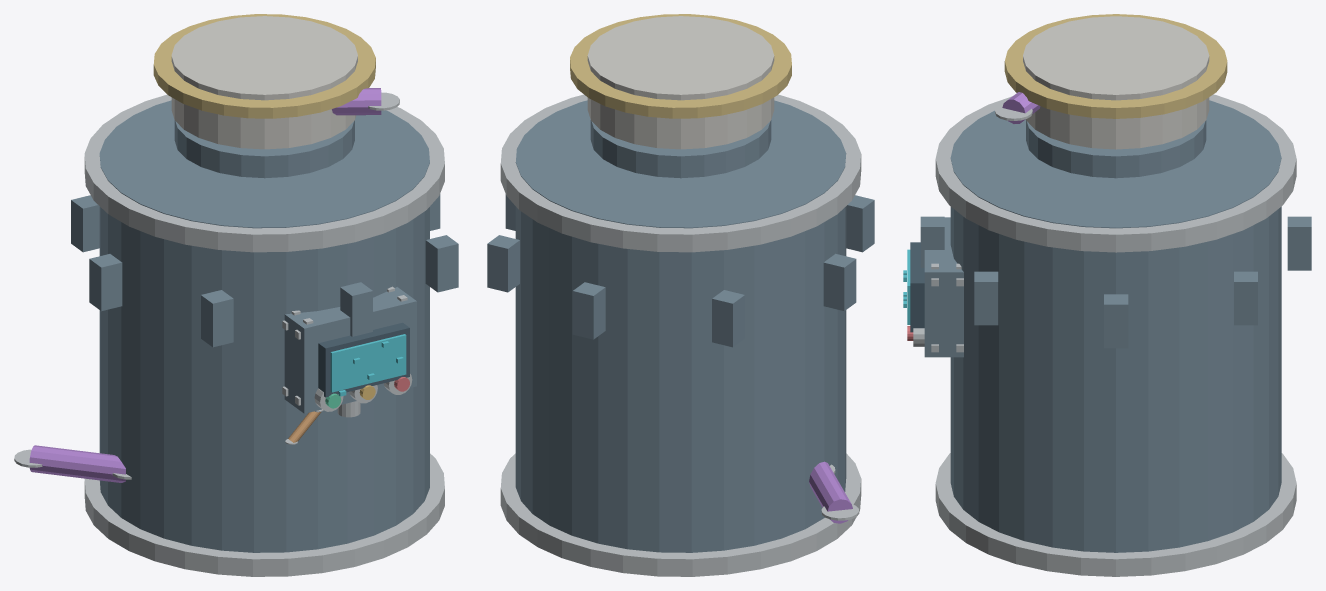
File: 21_L78_VirtualCapPrecursorCartridge.glb
3 renders of one model, left to right at view 1: azimuth 30°, elevation 25°; view 2: azimuth 150°, elevation 25°; view 3: azimuth 270°, elevation 25°, orthographic.
Parts seen in each view (by area): view 1: VirtualCapPrecursorCartridge_Node_0000, VirtualCapPrecursorCartridge_Node_0047, VirtualCapPrecursorCartridge_Node_0004, VirtualCapPrecursorCartridge_Node_0003, VirtualCapPrecursorCartridge_Node_0048, VirtualCapPrecursorCartridge_Node_0021, VirtualCapPrecursorCartridge_Node_0049, VirtualCapPrecursorCartridge_Node_0031, VirtualCapPrecursorCartridge_Node_0018, VirtualCapPrecursorCartridge_Node_0030, VirtualCapPrecursorCartridge_Node_0006, VirtualCapPrecursorCartridge_Node_0009 (+4 smaller); view 2: VirtualCapPrecursorCartridge_Node_0000, VirtualCapPrecursorCartridge_Node_0047, VirtualCapPrecursorCartridge_Node_0004, VirtualCapPrecursorCartridge_Node_0003, VirtualCapPrecursorCartridge_Node_0048, VirtualCapPrecursorCartridge_Node_0049, VirtualCapPrecursorCartridge_Node_0011, VirtualCapPrecursorCartridge_Node_0009, VirtualCapPrecursorCartridge_Node_0012, VirtualCapPrecursorCartridge_Node_0010, VirtualCapPrecursorCartridge_Node_0008, VirtualCapPrecursorCartridge_Node_0018; view 3: VirtualCapPrecursorCartridge_Node_0000, VirtualCapPrecursorCartridge_Node_0047, VirtualCapPrecursorCartridge_Node_0004, VirtualCapPrecursorCartridge_Node_0003, VirtualCapPrecursorCartridge_Node_0048, VirtualCapPrecursorCartridge_Node_0049, VirtualCapPrecursorCartridge_Node_0021, VirtualCapPrecursorCartridge_Node_0005, VirtualCapPrecursorCartridge_Node_0011, VirtualCapPrecursorCartridge_Node_0006, VirtualCapPrecursorCartridge_Node_0012, VirtualCapPrecursorCartridge_Node_0030 (+2 smaller).
Boxes of the visible parts, box(x1,y1,x2,y2) form: VirtualCapPrecursorCartridge_Node_0000: box(99, 100, 429, 552); VirtualCapPrecursorCartridge_Node_0047: box(171, 16, 357, 149); VirtualCapPrecursorCartridge_Node_0004: box(84, 94, 444, 252); VirtualCapPrecursorCartridge_Node_0003: box(84, 453, 444, 576); VirtualCapPrecursorCartridge_Node_0048: box(153, 14, 375, 118); VirtualCapPrecursorCartridge_Node_0021: box(284, 287, 416, 413); VirtualCapPrecursorCartridge_Node_0049: box(174, 120, 354, 178); VirtualCapPrecursorCartridge_Node_0031: box(330, 334, 406, 392); VirtualCapPrecursorCartridge_Node_0018: box(29, 445, 125, 482); VirtualCapPrecursorCartridge_Node_0030: box(318, 322, 409, 397); VirtualCapPrecursorCartridge_Node_0006: box(425, 235, 458, 292); VirtualCapPrecursorCartridge_Node_0009: box(89, 254, 122, 311); VirtualCapPrecursorCartridge_Node_0000: box(515, 100, 846, 552); VirtualCapPrecursorCartridge_Node_0047: box(587, 16, 774, 149); VirtualCapPrecursorCartridge_Node_0004: box(500, 94, 861, 252); VirtualCapPrecursorCartridge_Node_0003: box(500, 453, 861, 576); VirtualCapPrecursorCartridge_Node_0048: box(570, 14, 791, 118); VirtualCapPrecursorCartridge_Node_0049: box(590, 120, 771, 178); VirtualCapPrecursorCartridge_Node_0011: box(572, 282, 605, 339); VirtualCapPrecursorCartridge_Node_0009: box(823, 253, 856, 311); VirtualCapPrecursorCartridge_Node_0012: box(487, 235, 519, 292); VirtualCapPrecursorCartridge_Node_0010: box(712, 290, 744, 347); VirtualCapPrecursorCartridge_Node_0008: box(846, 195, 874, 252); VirtualCapPrecursorCartridge_Node_0018: box(809, 461, 852, 523); VirtualCapPrecursorCartridge_Node_0000: box(950, 100, 1281, 552); VirtualCapPrecursorCartridge_Node_0047: box(1023, 16, 1209, 149); VirtualCapPrecursorCartridge_Node_0004: box(935, 94, 1296, 252); VirtualCapPrecursorCartridge_Node_0003: box(935, 453, 1296, 576); VirtualCapPrecursorCartridge_Node_0048: box(1004, 14, 1227, 118); VirtualCapPrecursorCartridge_Node_0049: box(1026, 120, 1206, 178); VirtualCapPrecursorCartridge_Node_0021: box(924, 217, 963, 357); VirtualCapPrecursorCartridge_Node_0005: box(1104, 294, 1128, 348); VirtualCapPrecursorCartridge_Node_0011: box(1287, 216, 1311, 270); VirtualCapPrecursorCartridge_Node_0006: box(974, 271, 998, 325); VirtualCapPrecursorCartridge_Node_0012: box(1234, 271, 1257, 325); VirtualCapPrecursorCartridge_Node_0030: box(910, 242, 924, 332).
Size of the model in its own units: 1.46 by 1.63 by 1.36.
